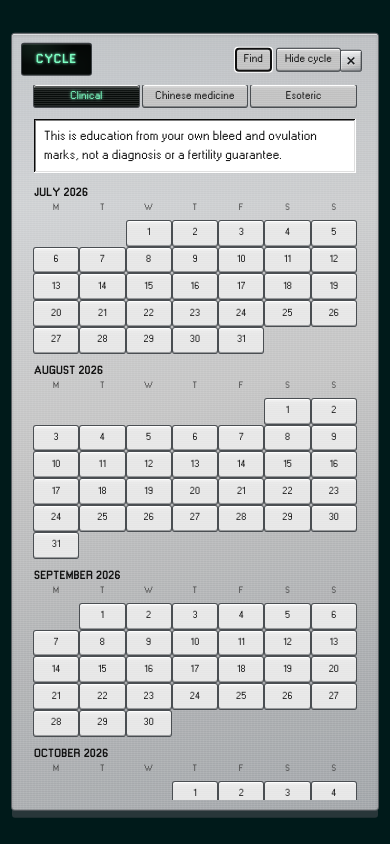
Test case: CycleDetailDialog › keeps the today dot when another day is selected
Click the cell "1" below "October 2026": (195, 794) [173,782,217,806]
(page scrolled)
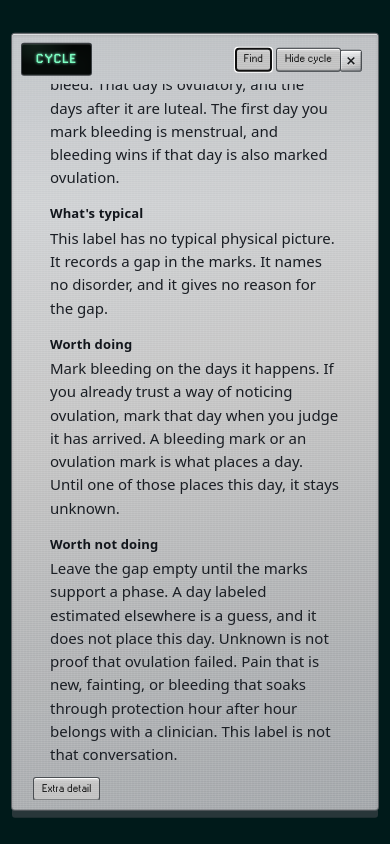
Click the button "Extra detail": (67, 789) [34,778,100,800]
(page scrolled)
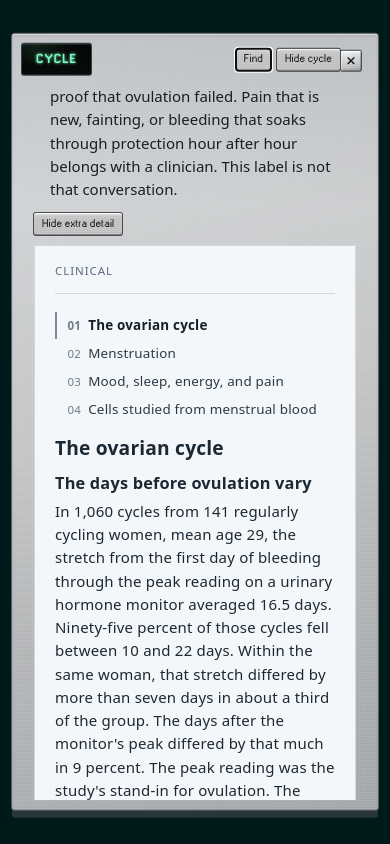
Expected: the heading "The ovarian cycle" is shown, [55,434,224,461]
